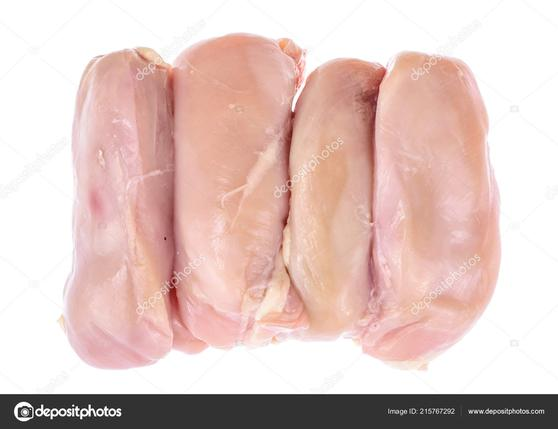chicken_fillet: (363, 48, 509, 371), (159, 32, 300, 366), (60, 44, 189, 374), (283, 53, 389, 353)
